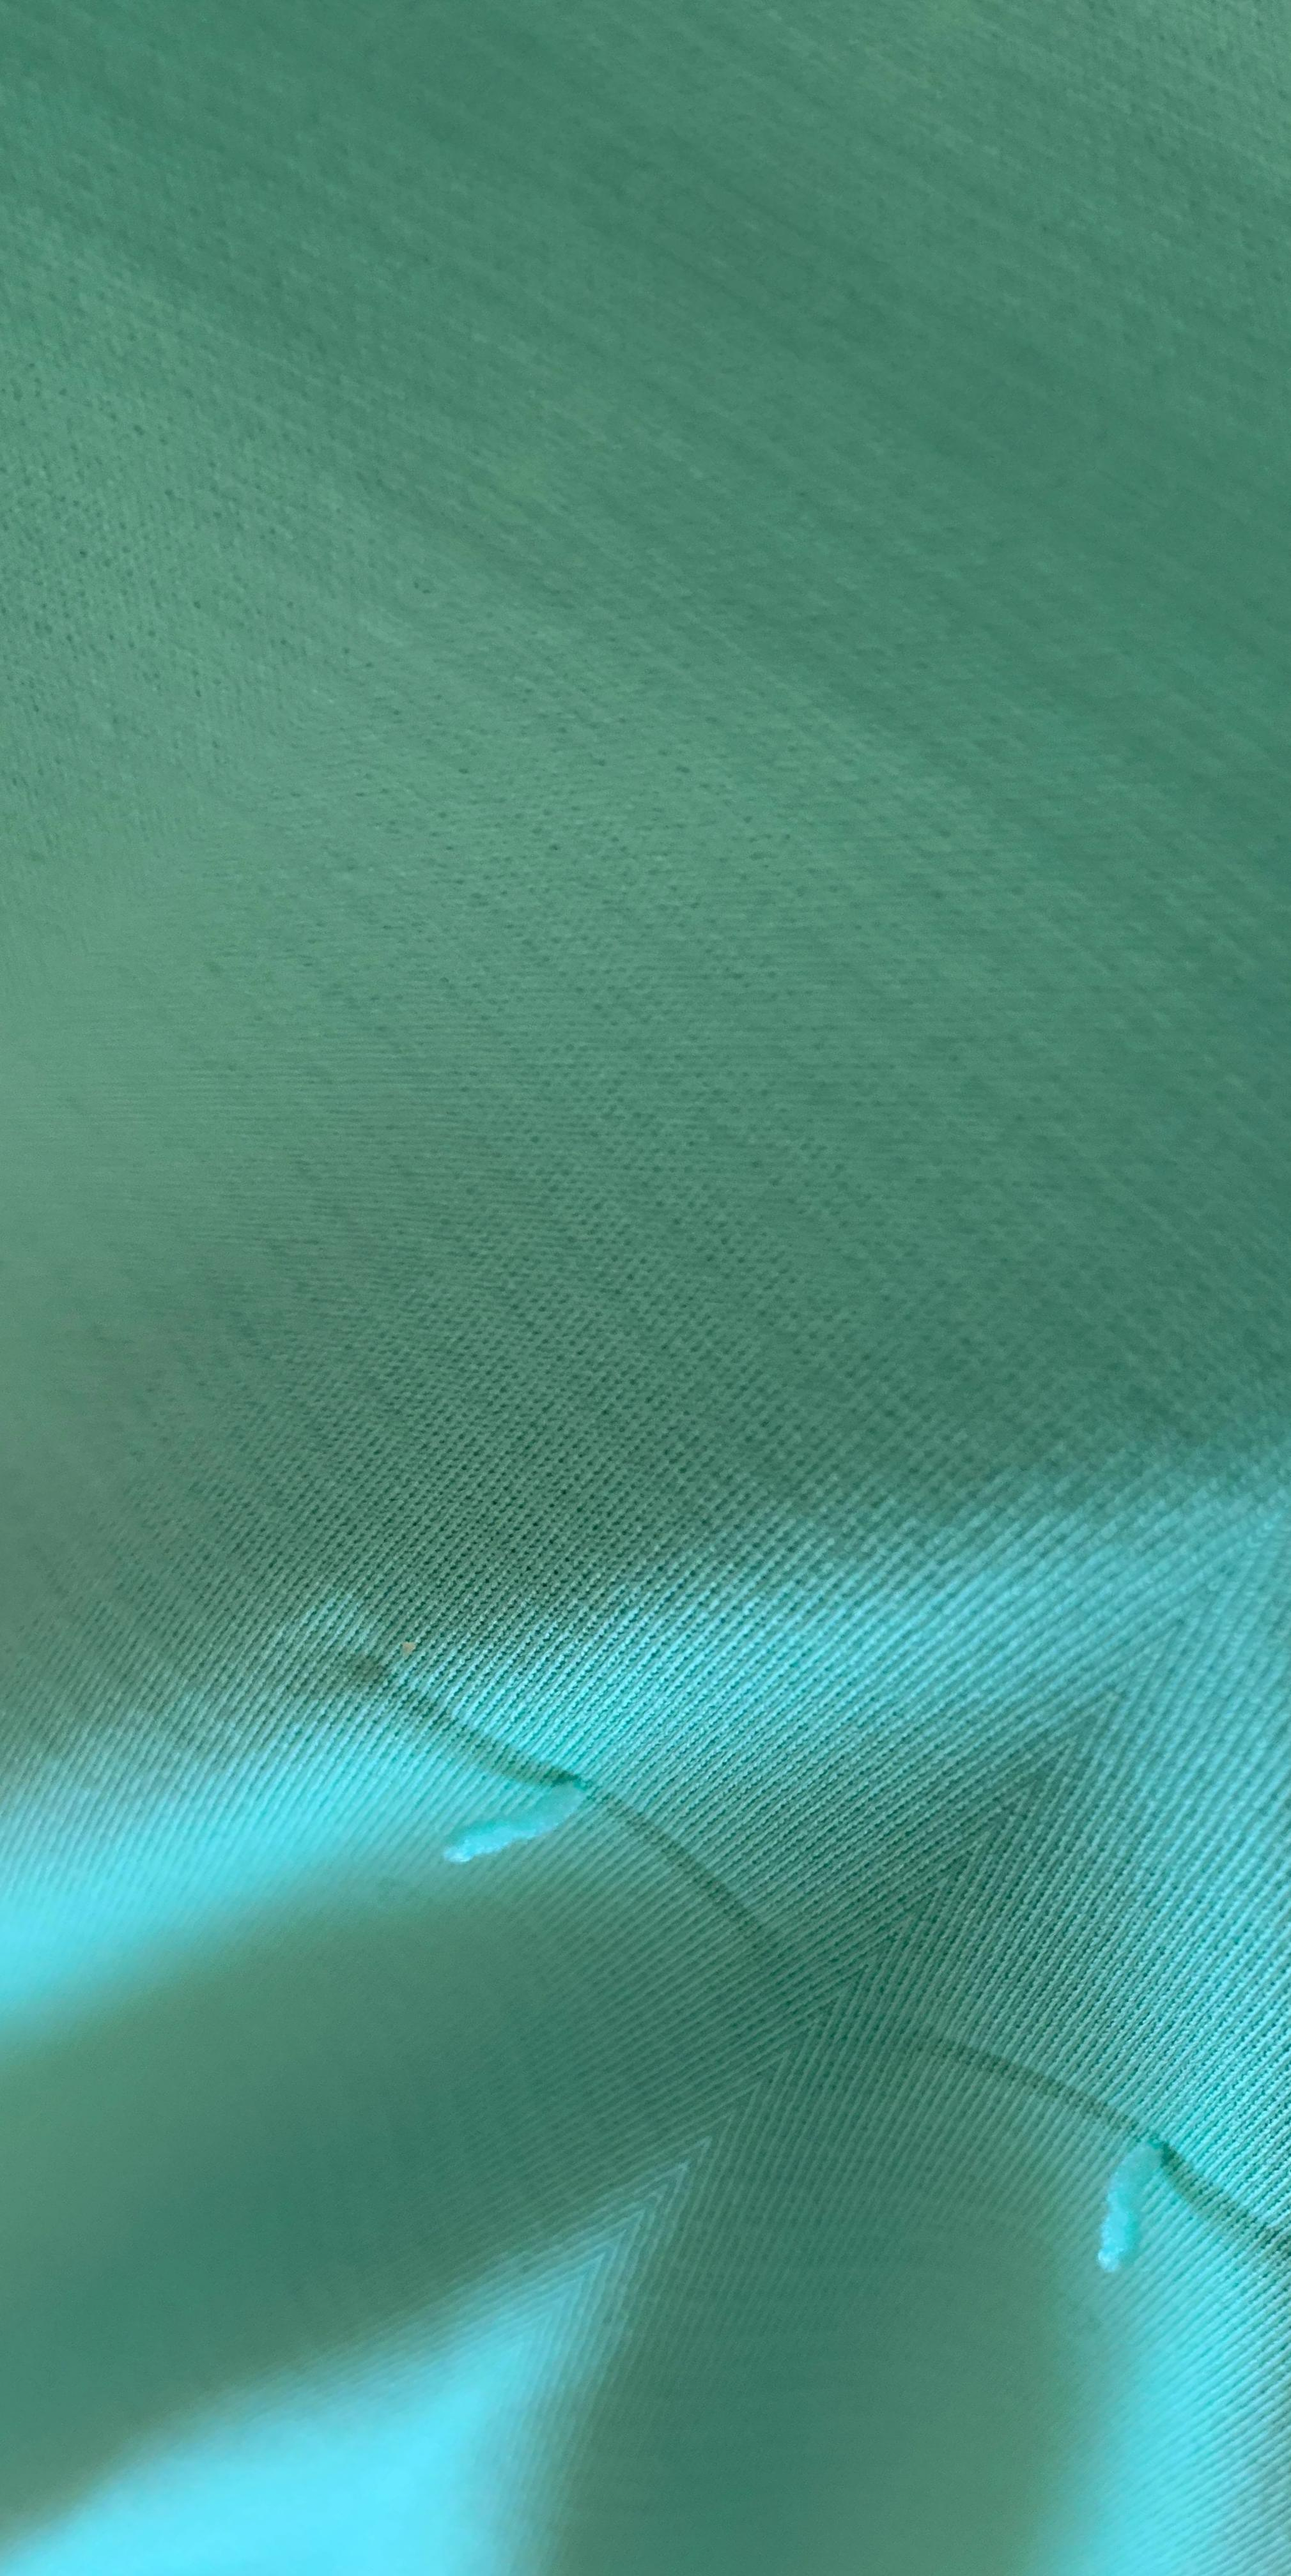snag: (385, 1687, 650, 1923), (1039, 2041, 1205, 2331)
